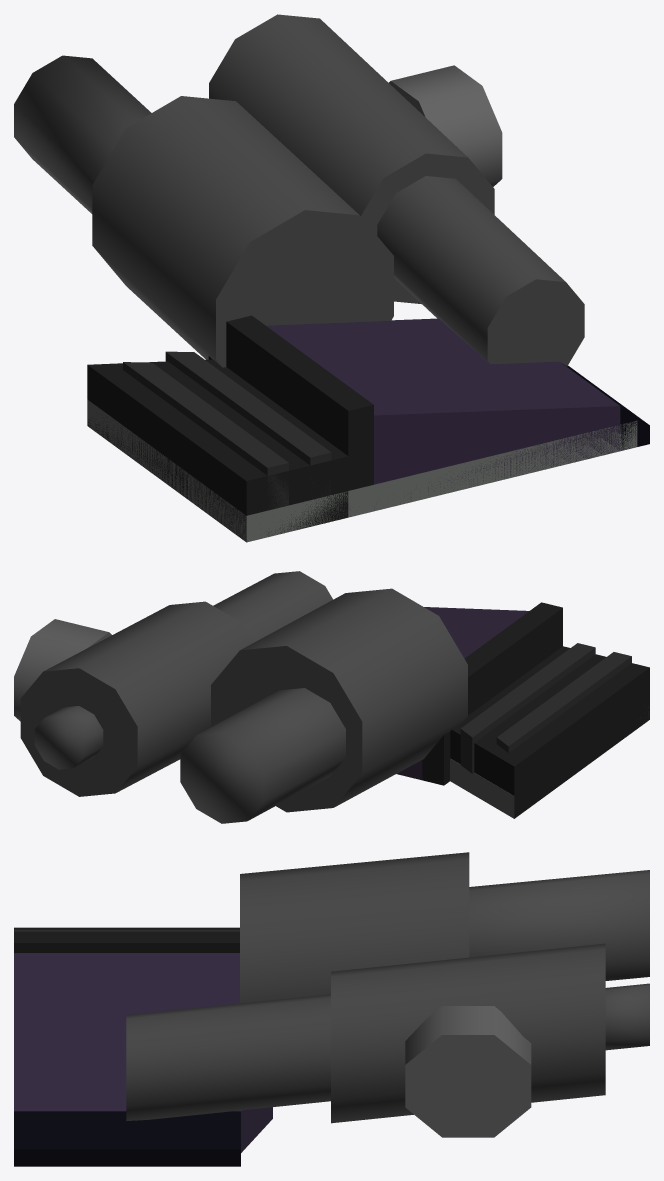
The model's file is newshb-85.glb.
3 renders of one model, top to bottom at view 1: azimuth 30°, elevation 25°; view 2: azimuth 150°, elevation 25°; view 3: azimuth 270°, elevation 25°, orthographic. The views are drawn at different scales.
Visible parts, largest first — view 1: newshb-85; view 2: newshb-85; view 3: newshb-85.
Part boxes in pixels (x1,y1,x2,y2): newshb-85: [14, 14, 649, 542]; newshb-85: [14, 571, 649, 823]; newshb-85: [14, 852, 649, 1166].
Size of the model in its own units: 1.83 by 0.8347 by 2.33.
